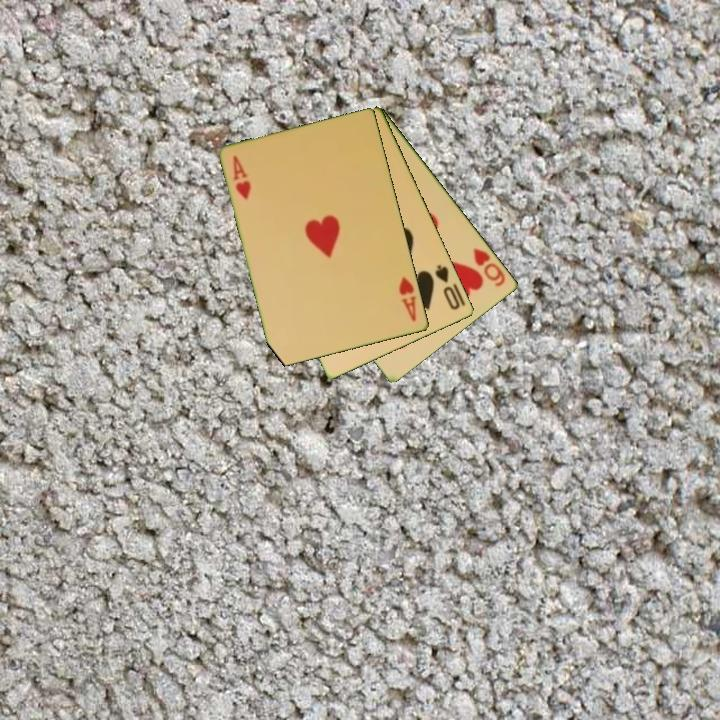10s: (432, 261, 463, 313)
6h: (470, 245, 509, 290)
Ah: (396, 273, 420, 324), (230, 152, 254, 202)
